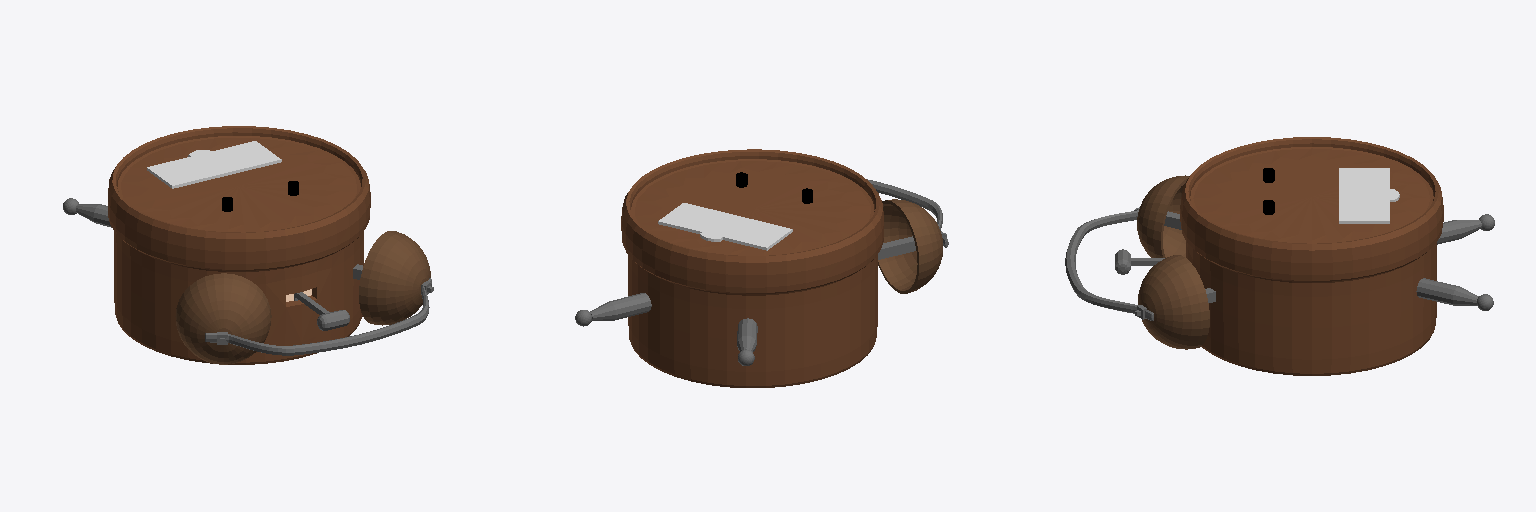
3 renders of one model, left to right at view 1: azimuth 30°, elevation 25°; view 2: azimuth 150°, elevation 25°; view 3: azimuth 270°, elevation 25°, orthographic.
Visible parts, largest first — view 1: Object, Sphere.001, Sphere, Object.001, Cube.002, Cube.003, Cylinder.002; view 2: Object, Sphere.001, Object.001, Cylinder.001, Cube.002, Cylinder.002, Cube; view 3: Object, Sphere, Object.001, Sphere.001, Cube.002, Cylinder.001, Cylinder.002, Cube.003.
Boxes of the visible parts, box(x1,y1,x2,y2) form: Object: box(108, 126, 370, 364); Sphere.001: box(175, 273, 271, 364); Sphere: box(359, 231, 430, 325); Object.001: box(147, 141, 281, 188); Cube.002: box(205, 278, 431, 355); Cube.003: box(294, 292, 349, 330); Cylinder.002: box(63, 198, 111, 227); Object: box(621, 149, 883, 387); Sphere.001: box(878, 199, 942, 293); Object.001: box(658, 203, 792, 250); Cylinder.001: box(575, 293, 651, 326); Cube.002: box(867, 179, 948, 247); Cylinder.002: box(737, 318, 757, 365); Cube: box(878, 231, 946, 259); Object: box(1180, 137, 1443, 375); Sphere: box(1138, 255, 1209, 349); Object.001: box(1339, 168, 1399, 223); Sphere.001: box(1137, 175, 1188, 257); Cube.002: box(1065, 210, 1153, 320); Cylinder.001: box(1416, 278, 1493, 310); Cylinder.002: box(1437, 214, 1494, 244); Cube.003: box(1115, 249, 1164, 274).
Size of the model in its own units: 2.2 by 1.2 by 3.38.
Materials: 6 (5 with a texture image).